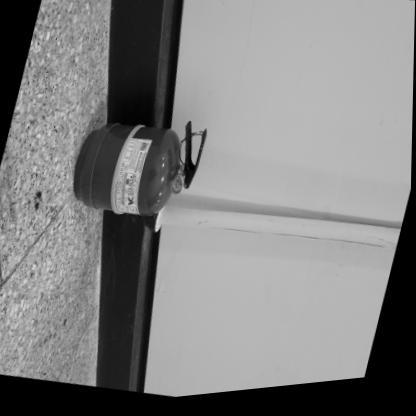FE: (66, 99, 211, 233)
